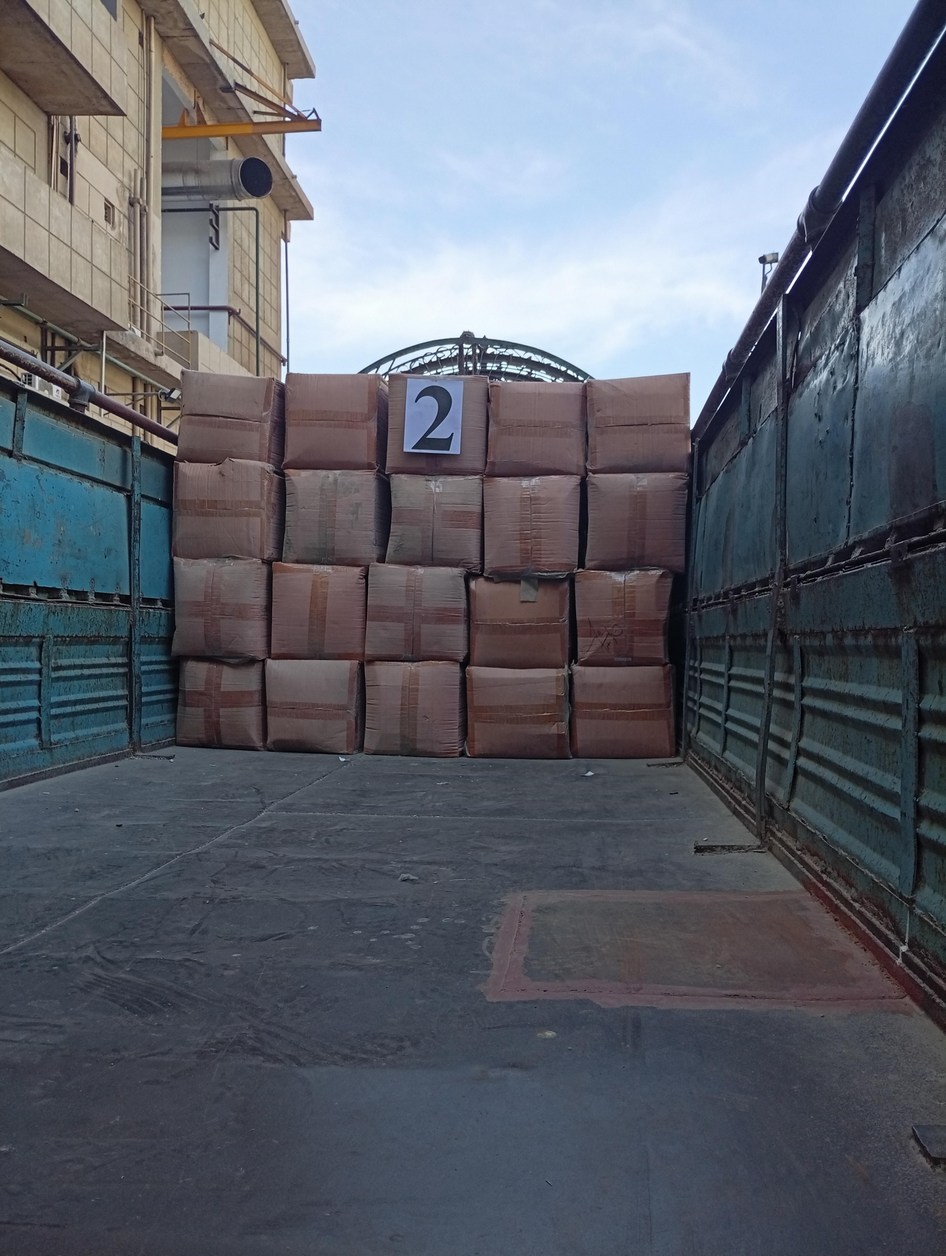carton: (172, 458, 285, 560), (386, 371, 488, 475), (283, 468, 391, 566), (284, 372, 390, 471), (178, 370, 285, 468), (587, 374, 692, 473), (365, 563, 469, 662), (586, 472, 689, 571), (483, 474, 580, 578), (174, 558, 271, 662), (570, 664, 675, 759), (363, 660, 466, 756), (487, 378, 586, 477), (387, 473, 483, 573), (466, 666, 570, 758), (265, 658, 364, 754), (468, 575, 570, 668), (575, 569, 672, 666), (271, 562, 367, 660), (176, 657, 266, 750)
